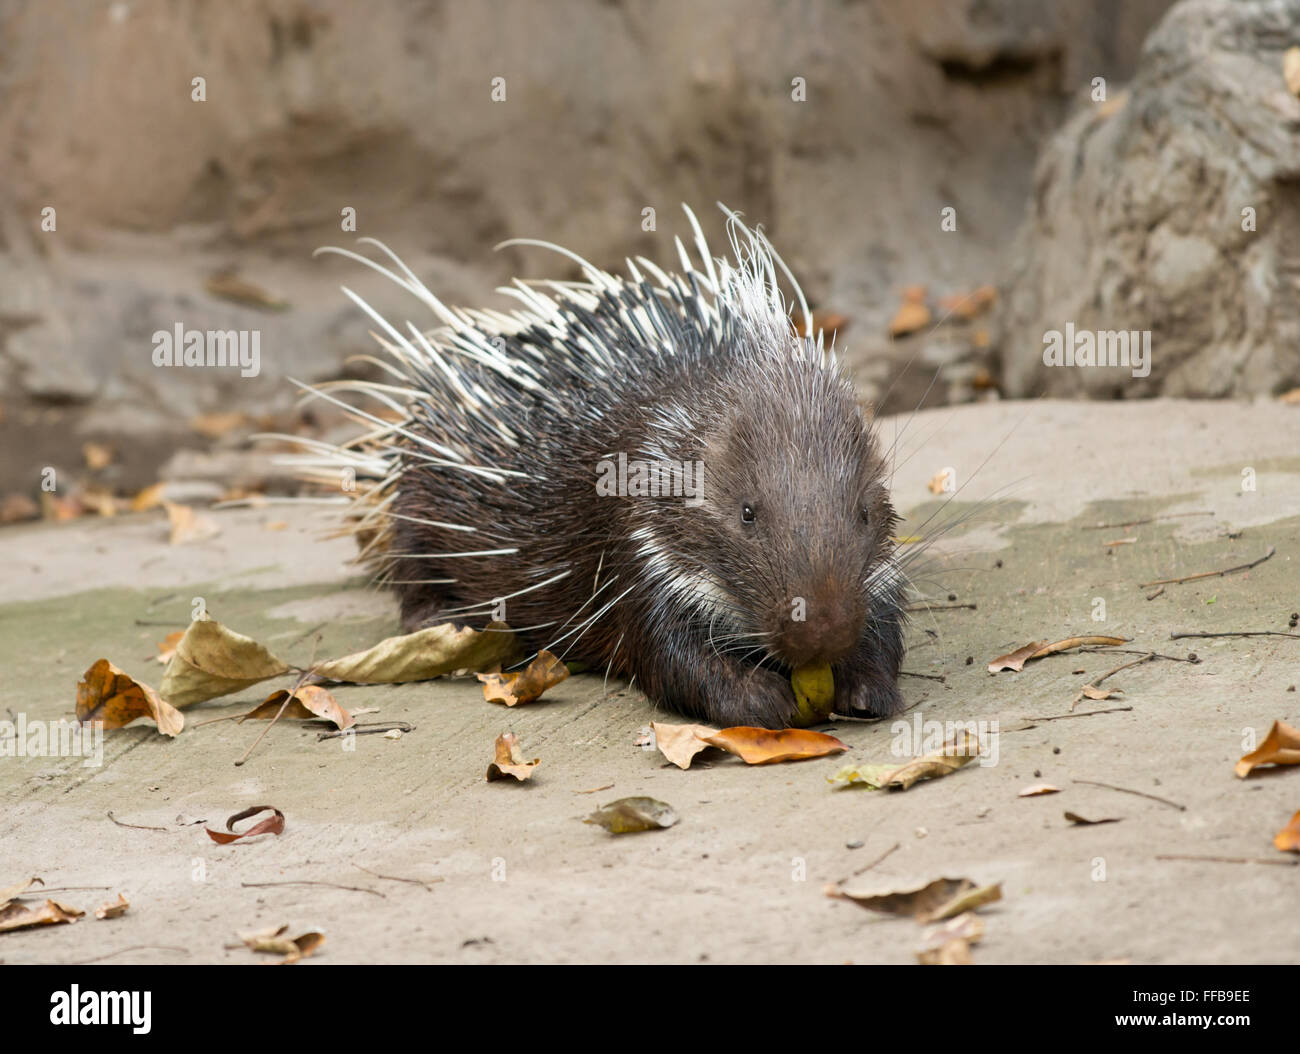porcupine: (260, 193, 965, 770)
